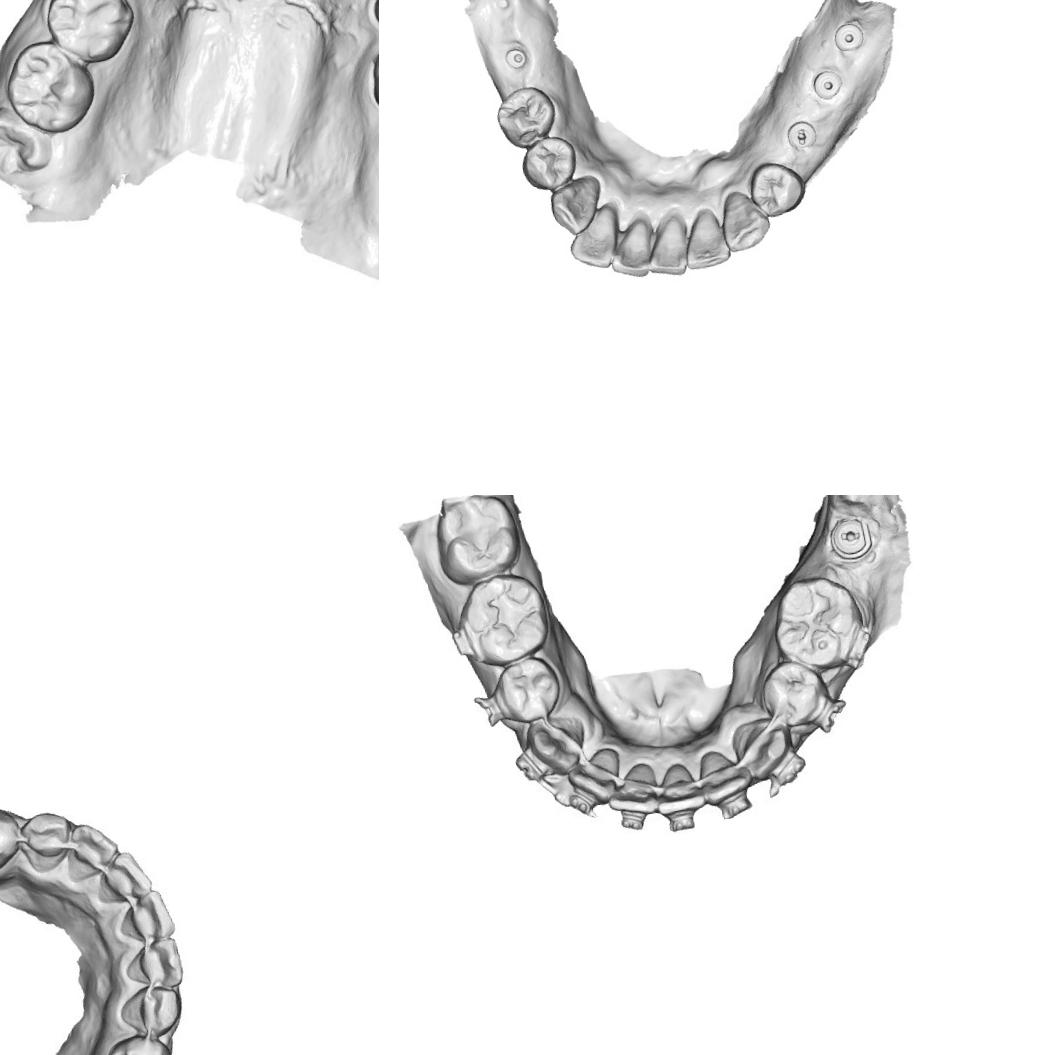canine: (545, 172, 609, 240), (17, 807, 80, 876), (114, 981, 185, 1042), (714, 185, 776, 254), (522, 712, 584, 781), (728, 716, 792, 780)
implant: (828, 17, 870, 57), (809, 65, 847, 104)
implant_minus: (822, 508, 882, 567), (783, 116, 820, 153)
incisor: (562, 202, 626, 274), (58, 817, 124, 885), (120, 931, 188, 995), (603, 754, 664, 820), (90, 846, 156, 906), (677, 204, 734, 272), (639, 212, 694, 282), (603, 214, 659, 282), (113, 886, 177, 944), (564, 744, 626, 802), (698, 750, 756, 808), (656, 762, 706, 820)
molar: (768, 568, 866, 675), (0, 36, 98, 134), (454, 570, 552, 666), (424, 495, 522, 586), (39, 0, 137, 66)
premolar: (753, 656, 829, 728), (492, 81, 561, 154), (494, 652, 562, 724), (516, 130, 582, 196), (744, 156, 811, 220), (0, 802, 26, 876), (101, 1030, 177, 1055)
